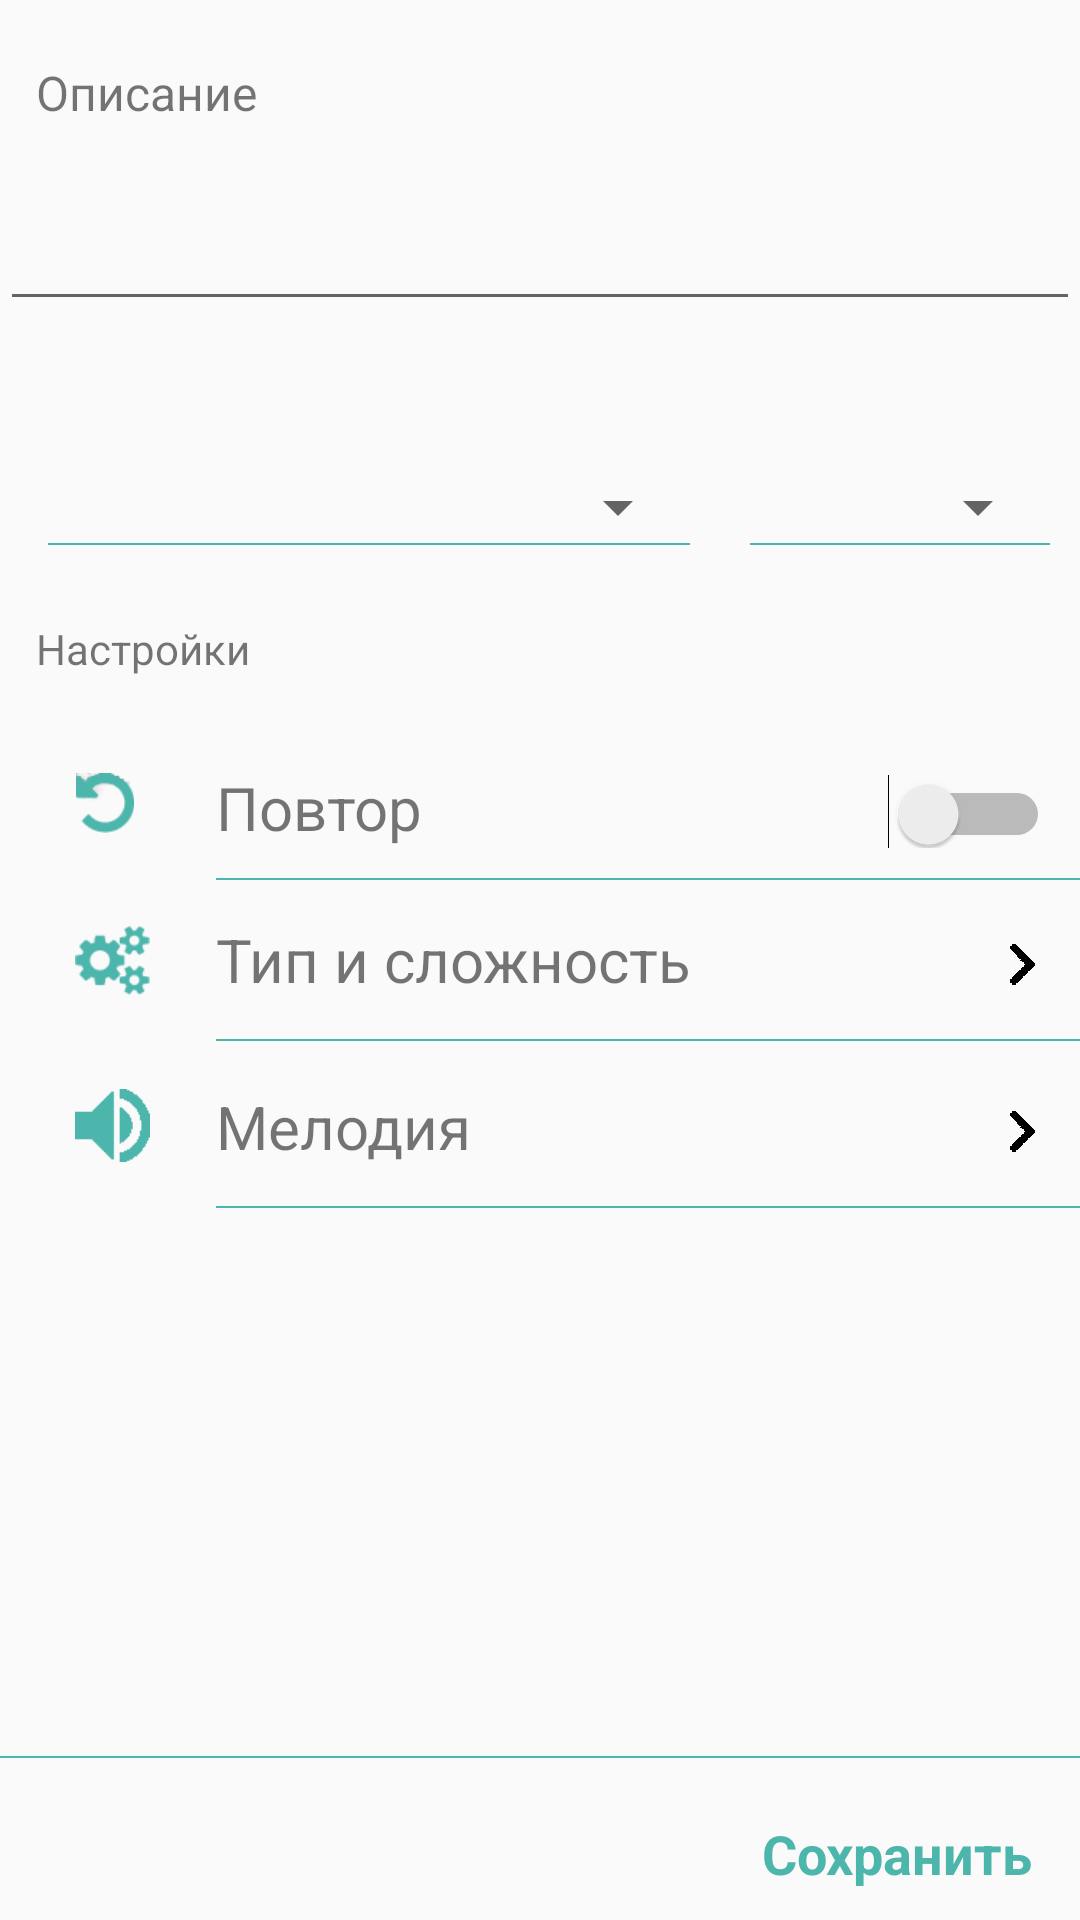

Icon click points for this 1080px x 1920px phone screenshot, format point (x, y):
repeate: point (105, 803)
strelka: point (1022, 964), point (1022, 1131)
volume: point (112, 1125)
